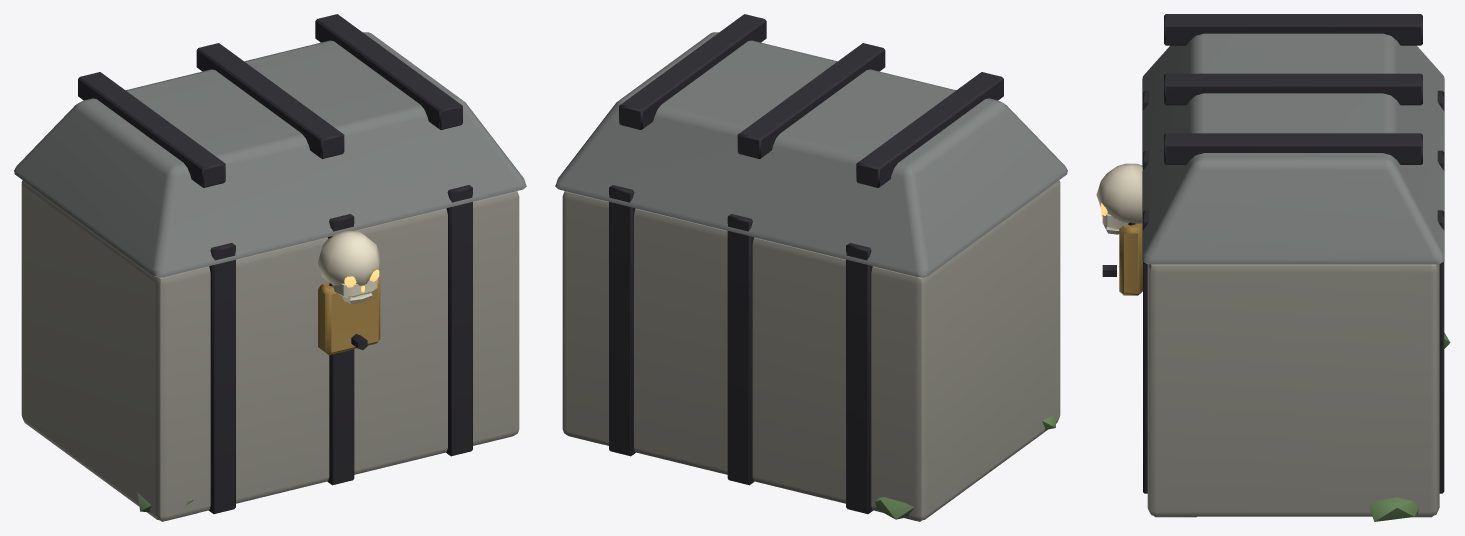
The model's file is vault_crypt.glb.
3 renders of one model, left to right at view 1: azimuth 30°, elevation 25°; view 2: azimuth 150°, elevation 25°; view 3: azimuth 270°, elevation 25°, orthographic. The views are drawn at different scales.
Visible parts, largest first — view 1: vault_crypt; view 2: vault_crypt; view 3: vault_crypt.
Boxes of the visible parts, bbox=[...] form: vault_crypt: bbox=[14, 14, 526, 521]; vault_crypt: bbox=[555, 14, 1067, 521]; vault_crypt: bbox=[1096, 14, 1450, 521].
Size of the model in its own units: 0.9675 by 0.8231 by 0.7519.
